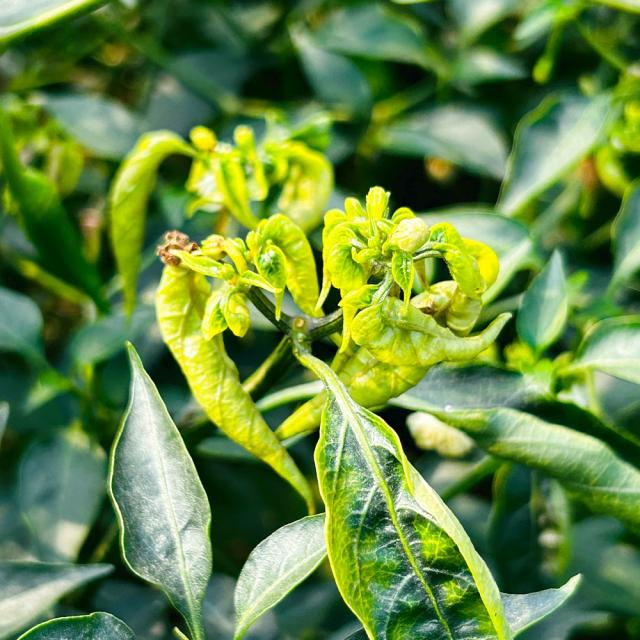Chilli_Leaf_Curl: (2, 1, 637, 638), (152, 192, 580, 637), (289, 342, 512, 638), (153, 230, 316, 514), (106, 120, 334, 320), (316, 185, 512, 410), (105, 339, 213, 638), (401, 400, 639, 530), (170, 212, 320, 342), (232, 511, 328, 638)
